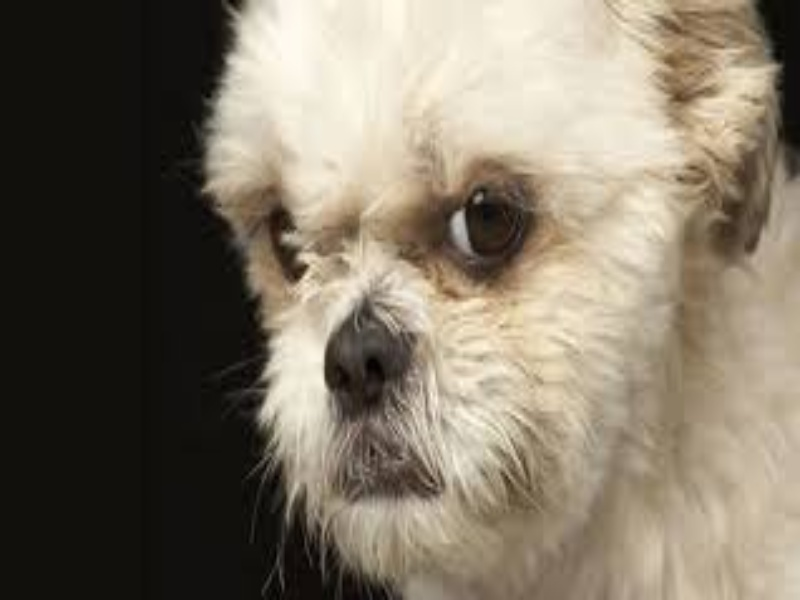dog: (89, 22, 688, 546)
